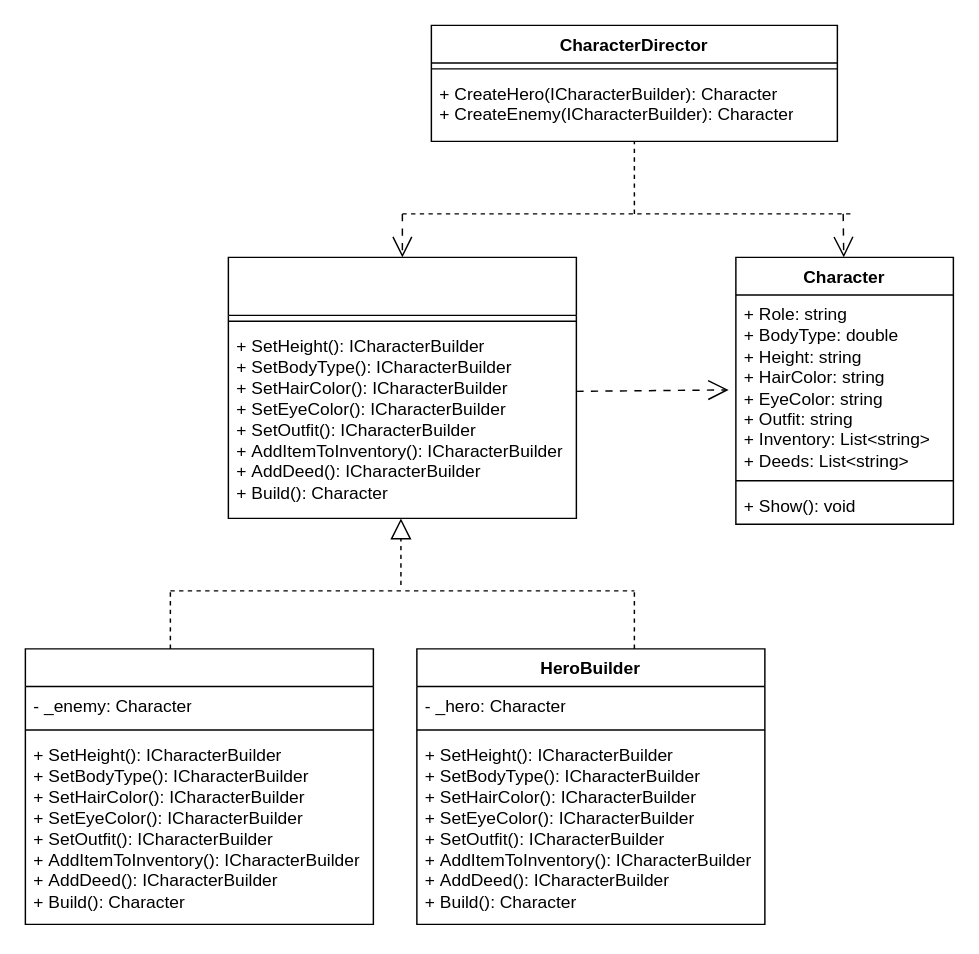
The diagram is 979 pixels wide and 954 high, and some of its shapes have lost their labels. Each missing label, with the box of its shape:
<<Interface>> ICharacterBuilder: (227, 256, 576, 518)
EnemyBuilder: (24, 647, 373, 924)
